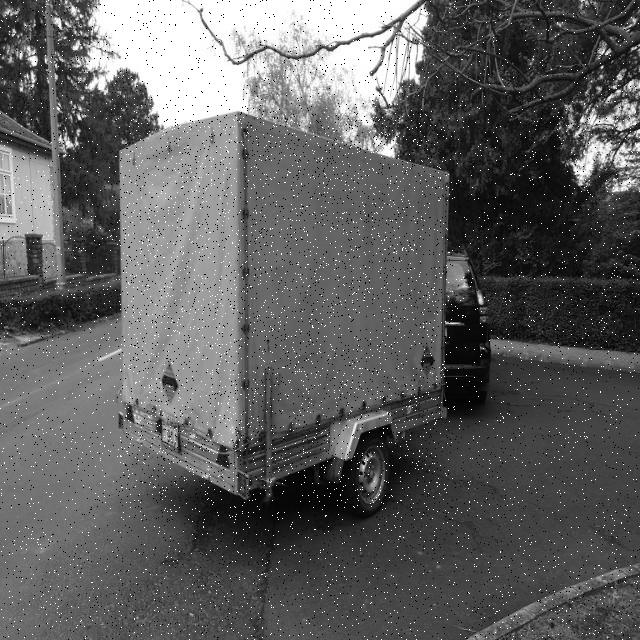Box Truck: (119, 113, 450, 520)
